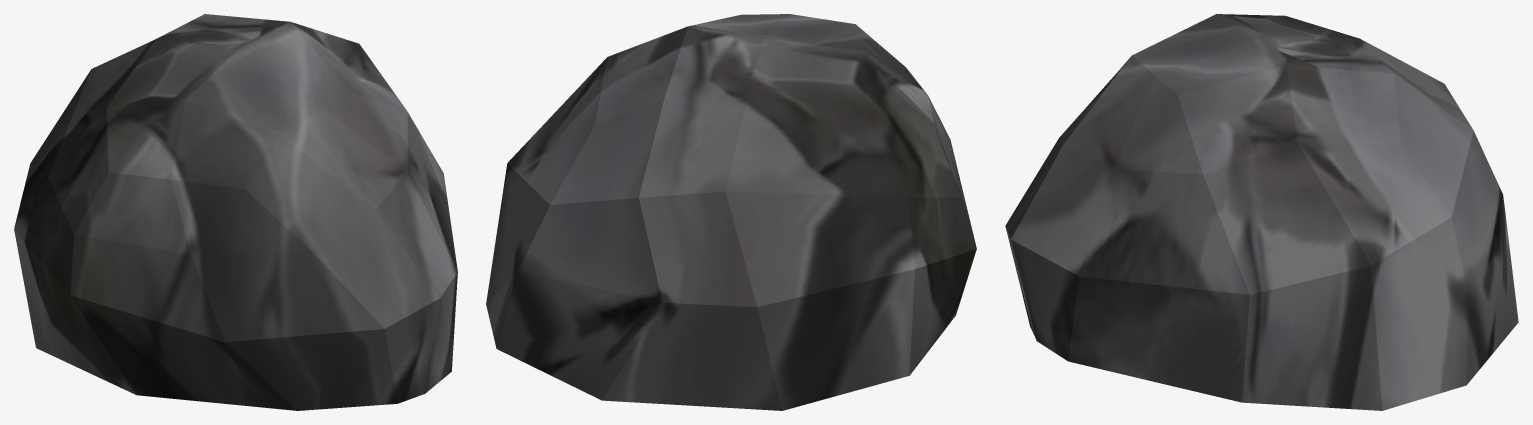
Rendered from fanasty_mod_sml_stone03.fbx.
3 views of the same model, side by side, from view 1: azimuth 30°, elevation 25°; view 2: azimuth 150°, elevation 25°; view 3: azimuth 270°, elevation 25° (orthographic). The views are drawn at different scales.
Visible parts, largest first — view 1: sml_stone_03; view 2: sml_stone_03; view 3: sml_stone_03.
Part boxes in pixels (<box>): sml_stone_03: <box>14,14,457,410</box>; sml_stone_03: <box>486,14,976,410</box>; sml_stone_03: <box>1005,14,1518,410</box>.
Size of the model in its own units: 0.5453 by 0.3576 by 0.6082.
